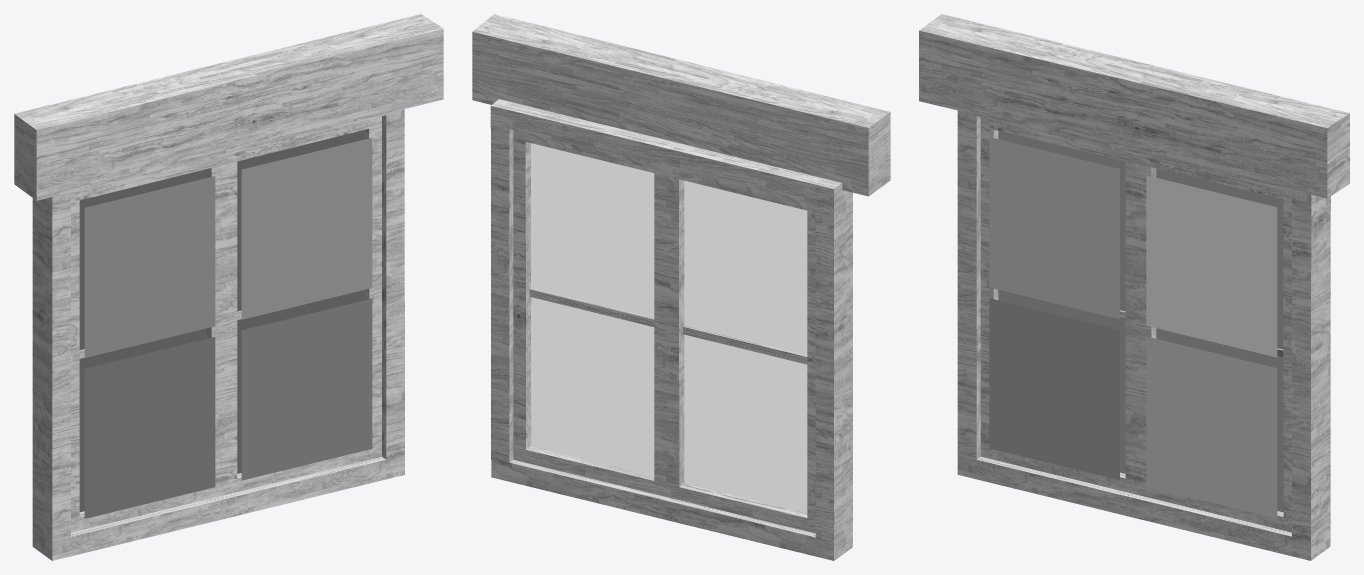
File: Window_963bb66b.obj
3 views of the same model, side by side, from view 1: azimuth 30°, elevation 25°; view 2: azimuth 150°, elevation 25°; view 3: azimuth 330°, elevation 25° (orthographic). The views are drawn at different scales.
Parts seen in each view (by area): view 1: Window_fedde8c9, QuadDecalSpawnPlane_(1)_bfbacc5e, QuadDecalSpawnPlane_86429db9, QuadDecalSpawnPlane_(2)_7d17d10d, QuadDecalSpawnPlane_(3)_06966b9b, WindowPane1_349135f5; view 2: Window_fedde8c9, WindowPane1_349135f5; view 3: Window_fedde8c9, QuadDecalSpawnPlane_(1)_bfbacc5e, QuadDecalSpawnPlane_(3)_06966b9b, QuadDecalSpawnPlane_(2)_7d17d10d, QuadDecalSpawnPlane_86429db9, WindowPane1_349135f5.
Boxes of the visible parts, x1,y1,x2,y2 form: Window_fedde8c9: [14, 14, 443, 560]; QuadDecalSpawnPlane_(1)_bfbacc5e: [241, 298, 372, 480]; QuadDecalSpawnPlane_86429db9: [84, 337, 215, 518]; QuadDecalSpawnPlane_(2)_7d17d10d: [84, 176, 215, 357]; QuadDecalSpawnPlane_(3)_06966b9b: [241, 138, 372, 319]; WindowPane1_349135f5: [79, 130, 364, 512]; Window_fedde8c9: [472, 14, 890, 560]; WindowPane1_349135f5: [531, 143, 807, 512]; Window_fedde8c9: [919, 14, 1349, 560]; QuadDecalSpawnPlane_(1)_bfbacc5e: [1146, 336, 1277, 518]; QuadDecalSpawnPlane_(3)_06966b9b: [1146, 175, 1277, 357]; QuadDecalSpawnPlane_(2)_7d17d10d: [989, 137, 1119, 319]; QuadDecalSpawnPlane_86429db9: [989, 298, 1119, 480]; WindowPane1_349135f5: [998, 130, 1283, 512].
Bounding box in the file's own units: 1.54 × 1.61 × 0.2066.
